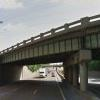Bridge: (9, 12, 98, 77)
